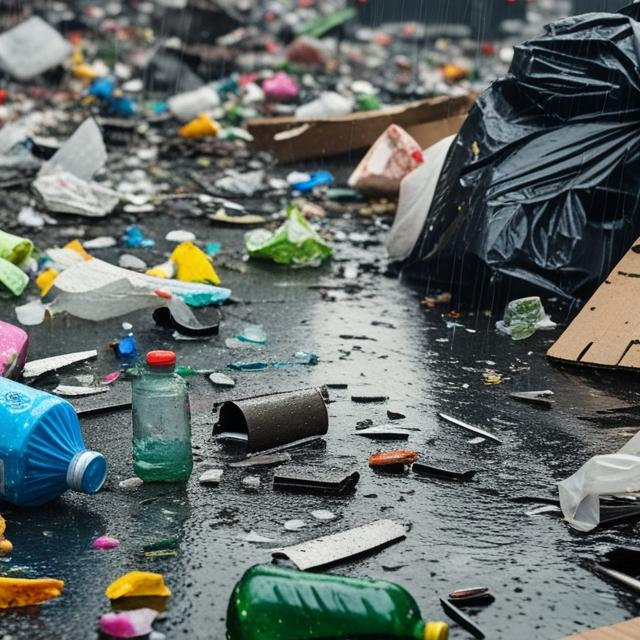plastic: (118, 346, 199, 486)
